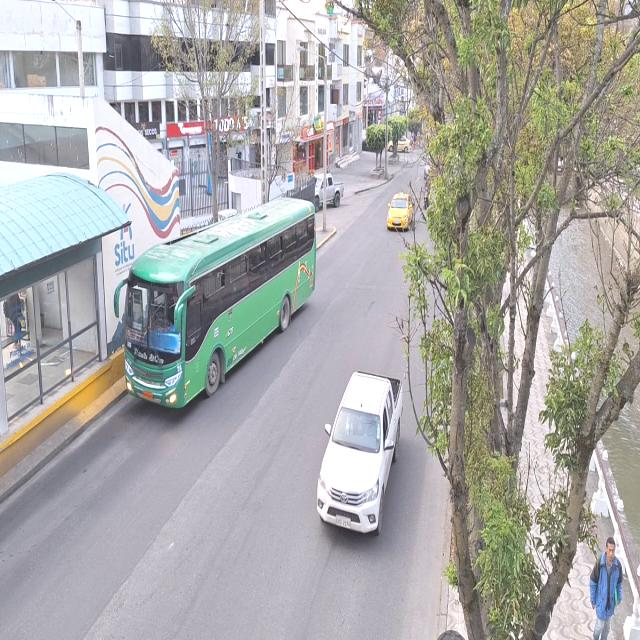BUS: (124, 206, 318, 414)
CMT: (315, 374, 404, 538)
